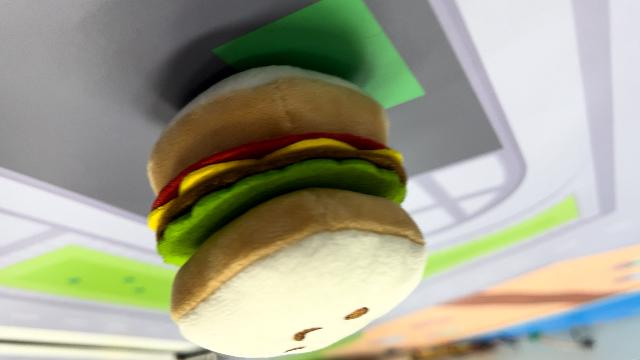sandwich: (144, 63, 430, 356)
